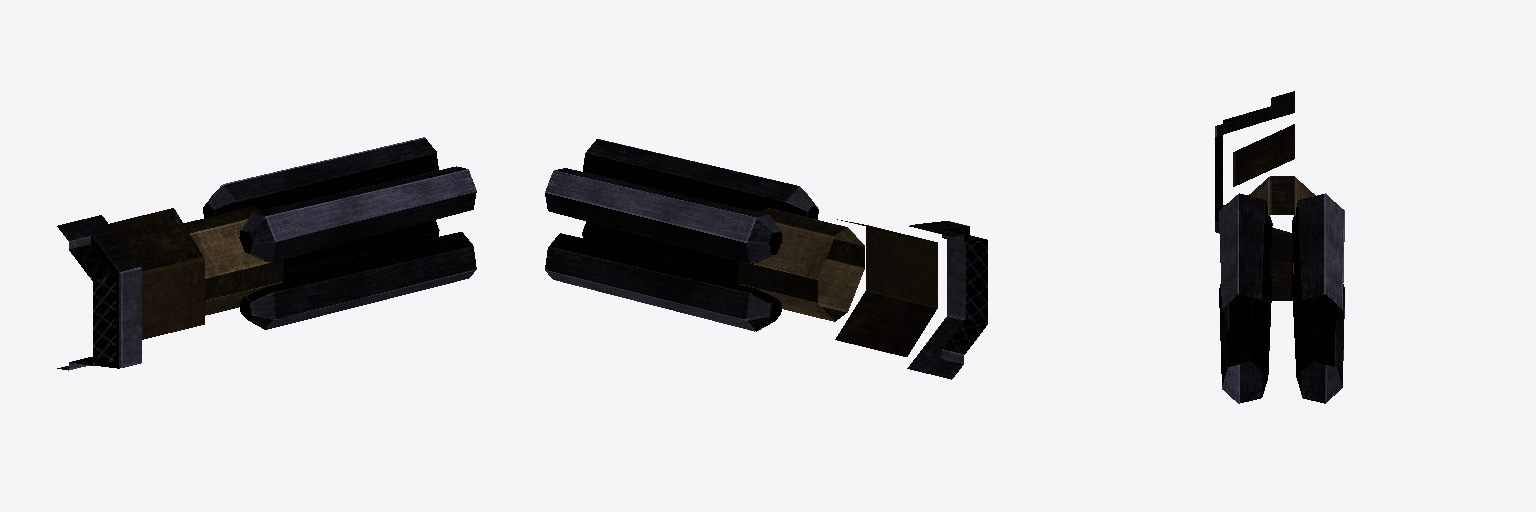
3 views of the same model, side by side, from view 1: azimuth 30°, elevation 25°; view 2: azimuth 150°, elevation 25°; view 3: azimuth 270°, elevation 25° (orthographic).
Size of the model in its own units: 30.2 by 10.75 by 8.9.
Materials: 1 (1 with a texture image).